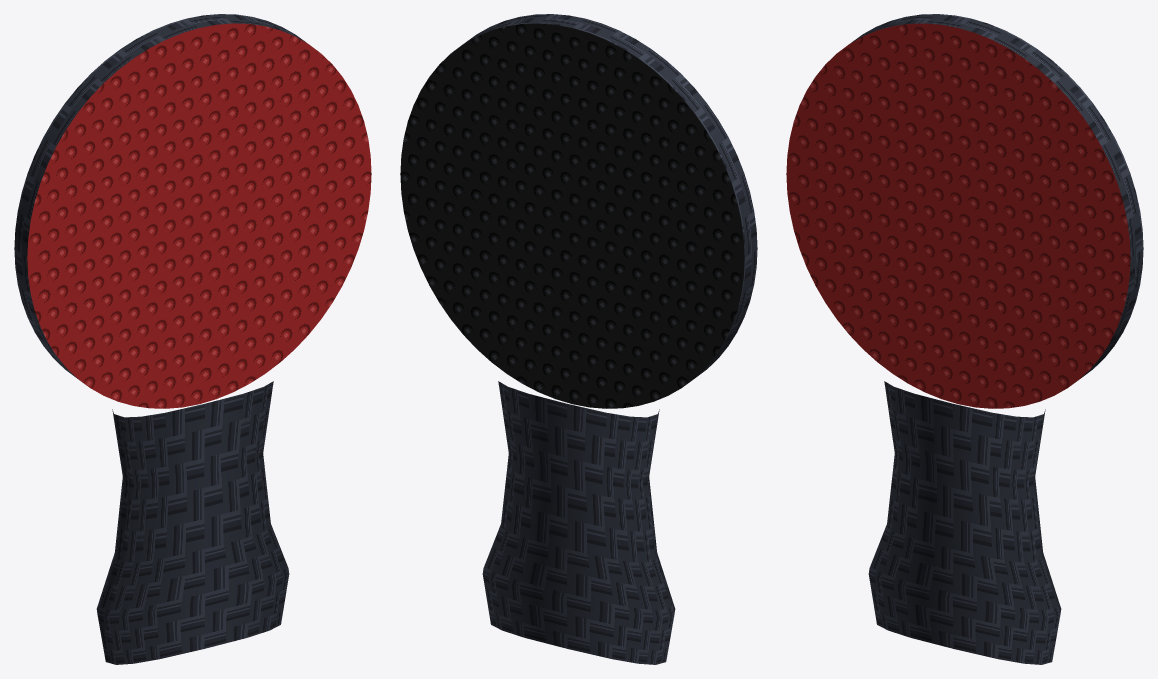
Rendered from pala_pro.glb.
3 views of the same model, side by side, from view 1: azimuth 30°, elevation 25°; view 2: azimuth 150°, elevation 25°; view 3: azimuth 330°, elevation 25° (orthographic).
Visible parts, largest first — view 1: goma, carbono; view 2: goma, carbono; view 3: goma, carbono.
Boxes of the visible parts, left/top/right/bottom form: goma: left=14, top=14, right=371, bottom=408; carbono: left=96, top=381, right=289, bottom=664; goma: left=400, top=14, right=757, bottom=408; carbono: left=482, top=381, right=675, bottom=664; goma: left=786, top=14, right=1143, bottom=408; carbono: left=868, top=381, right=1061, bottom=664.
Size of the model in its own units: 5.84 by 10.01 by 0.72.
Materials: 2 (2 with a texture image).
